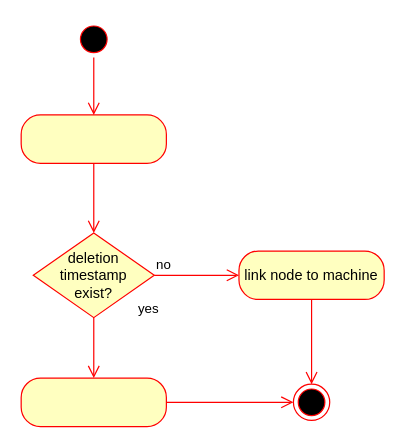
The diagram is 405 pixels wide and 448 high, and some of its shapes have lost their labels. Each missing label, with the centre of its shape:
Get node object: [93,138]
unlink node from machine: [93,402]
